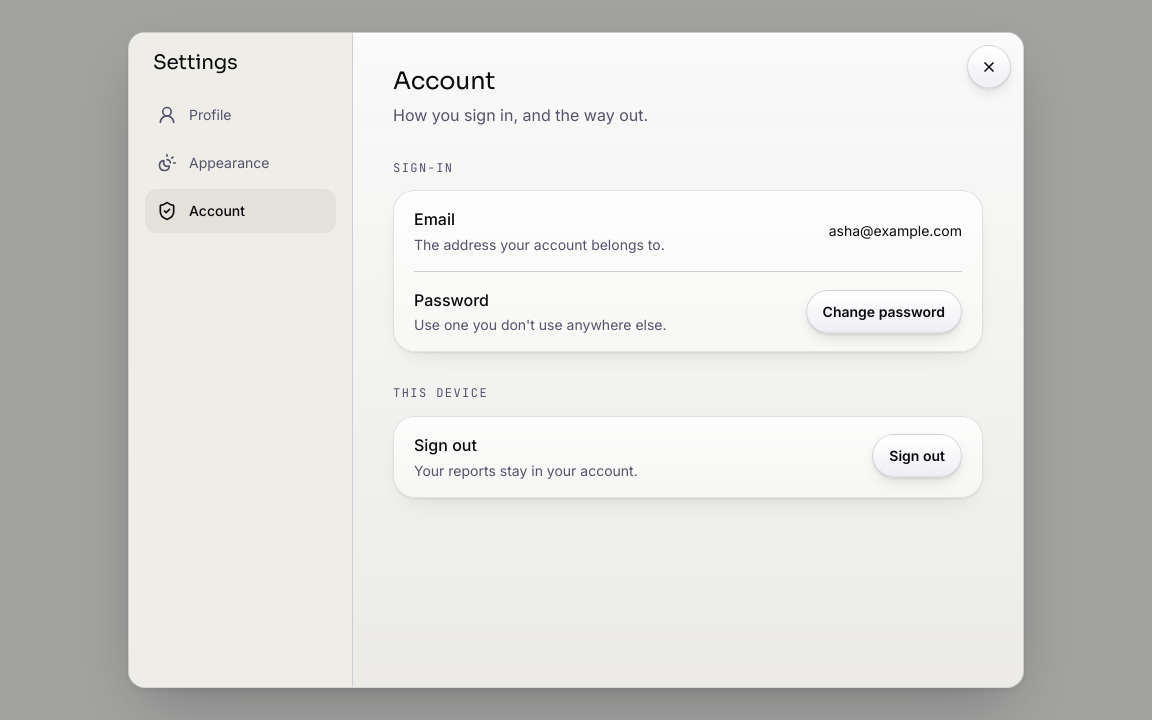
Test case: changing the password › the new password must differ from the current one
The image size is (1152, 720).
Click the button "Change password" at (884, 312), box [806,290,962,334]
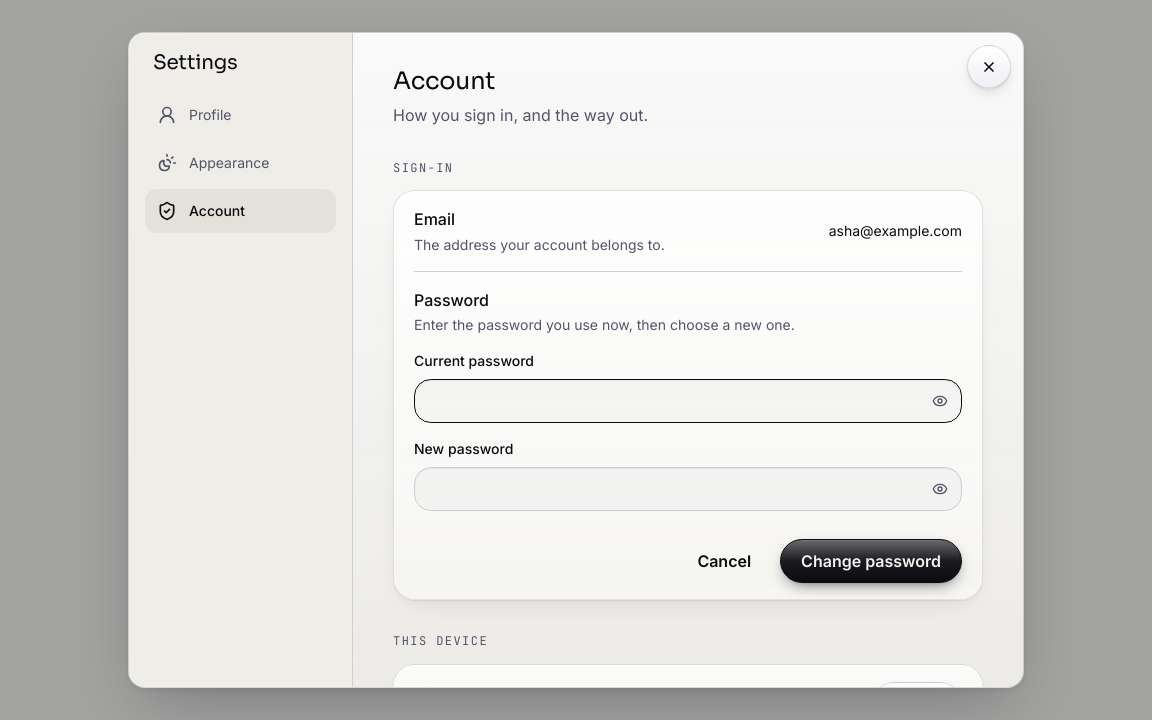
Type "SamePass123" into the password field labelled "Current password" at (688, 401), box [414,379,962,423]
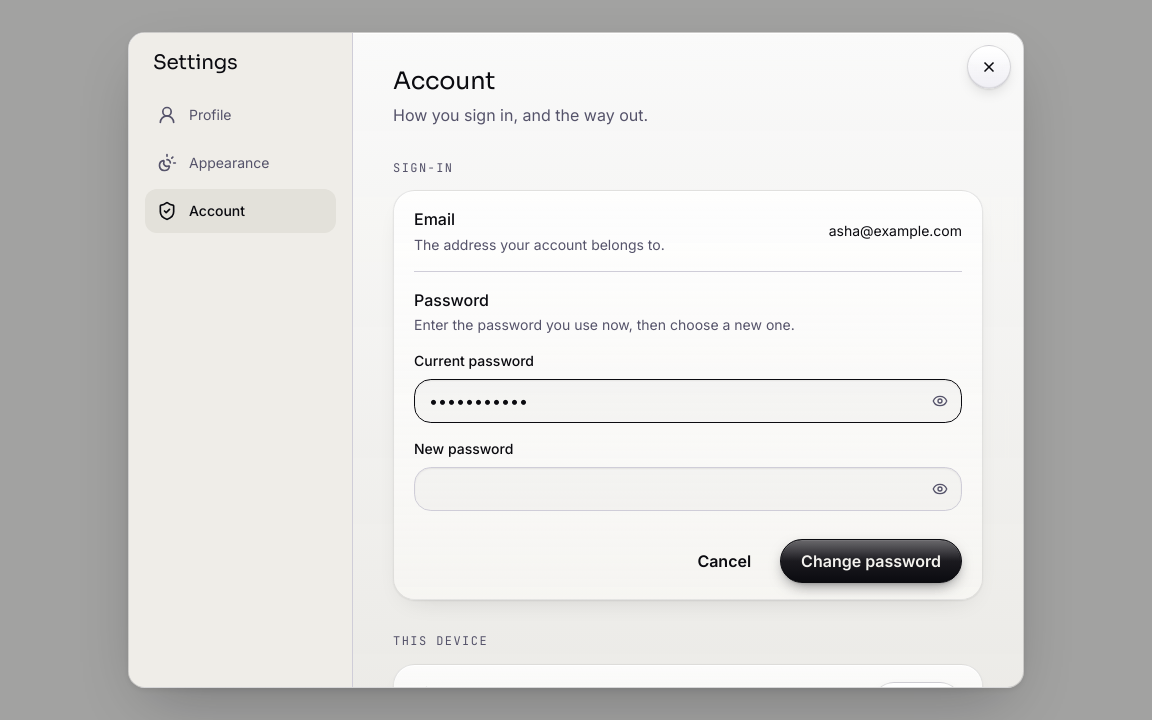
Type "SamePass123" into the password field labelled "New password" at (688, 489), box [414,467,962,511]
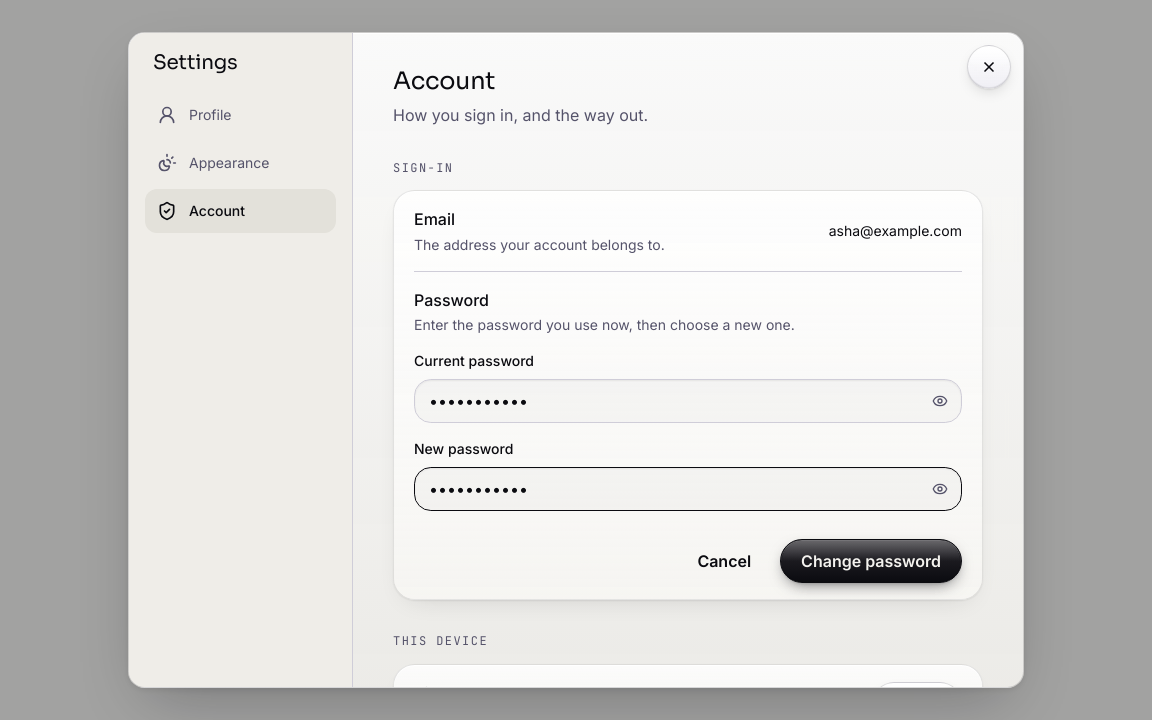
Click the button "Change password" at (871, 561), box [780,539,962,583]
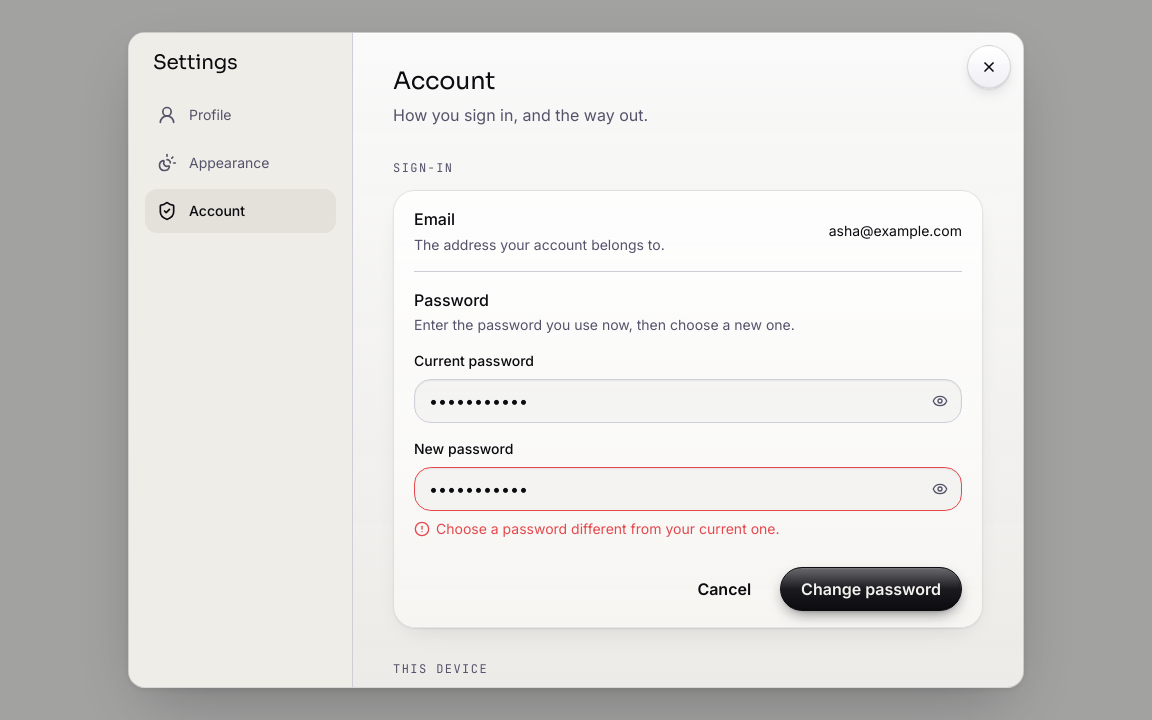
Expected: the message reads "Choose a password different from your current one.", [436,520,780,537]
